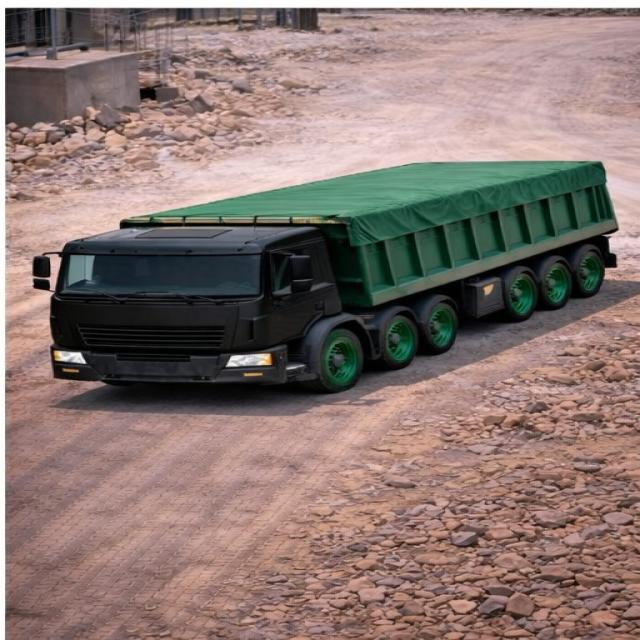Box: (116, 160, 604, 225)
Truck: (32, 150, 636, 394)
